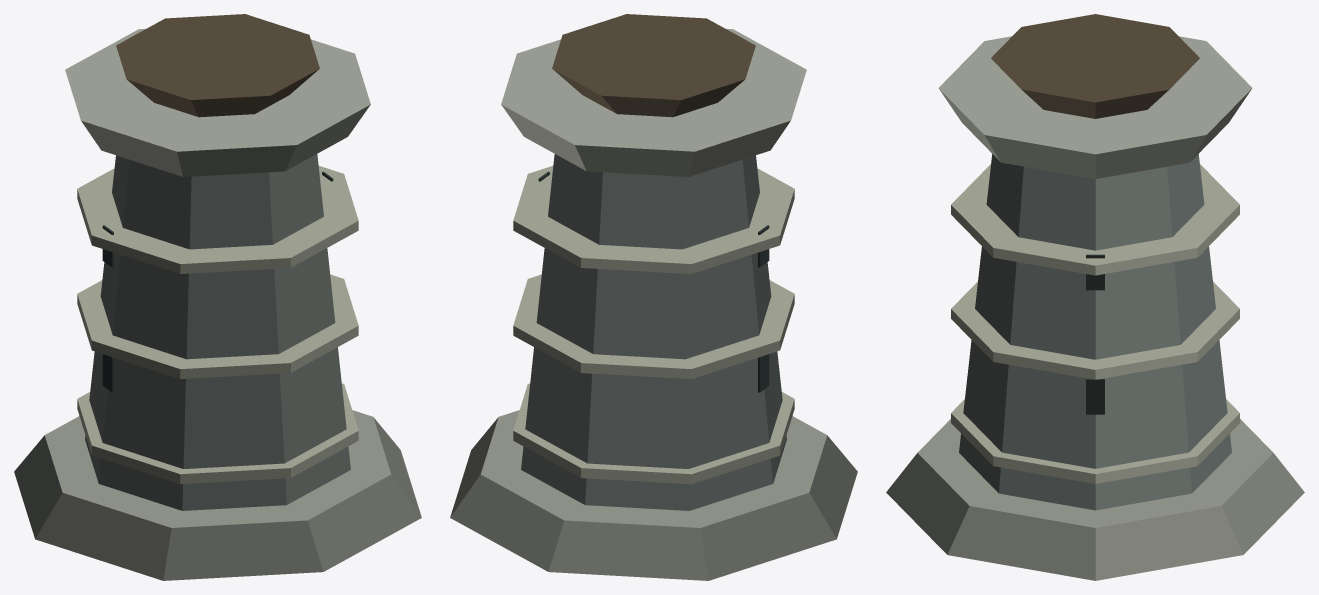
3 views of the same model, side by side, from view 1: azimuth 30°, elevation 25°; view 2: azimuth 150°, elevation 25°; view 3: azimuth 270°, elevation 25° (orthographic).
Parts seen in each view (by area): view 1: 7da78c727df2807d2573e67c57fb1a964aafe0b0bfa7d7d2a52af11f535a; view 2: 7da78c727df2807d2573e67c57fb1a964aafe0b0bfa7d7d2a52af11f535a; view 3: 7da78c727df2807d2573e67c57fb1a964aafe0b0bfa7d7d2a52af11f535a.
Boxes of the visible parts, x1,y1,x2,y2 form: 7da78c727df2807d2573e67c57fb1a964aafe0b0bfa7d7d2a52af11f535a: [14, 14, 421, 580]; 7da78c727df2807d2573e67c57fb1a964aafe0b0bfa7d7d2a52af11f535a: [450, 14, 857, 580]; 7da78c727df2807d2573e67c57fb1a964aafe0b0bfa7d7d2a52af11f535a: [886, 14, 1304, 580].
Size of the model in its own units: 7.65 by 8.75 by 7.65.
1 material, 1 textured.
